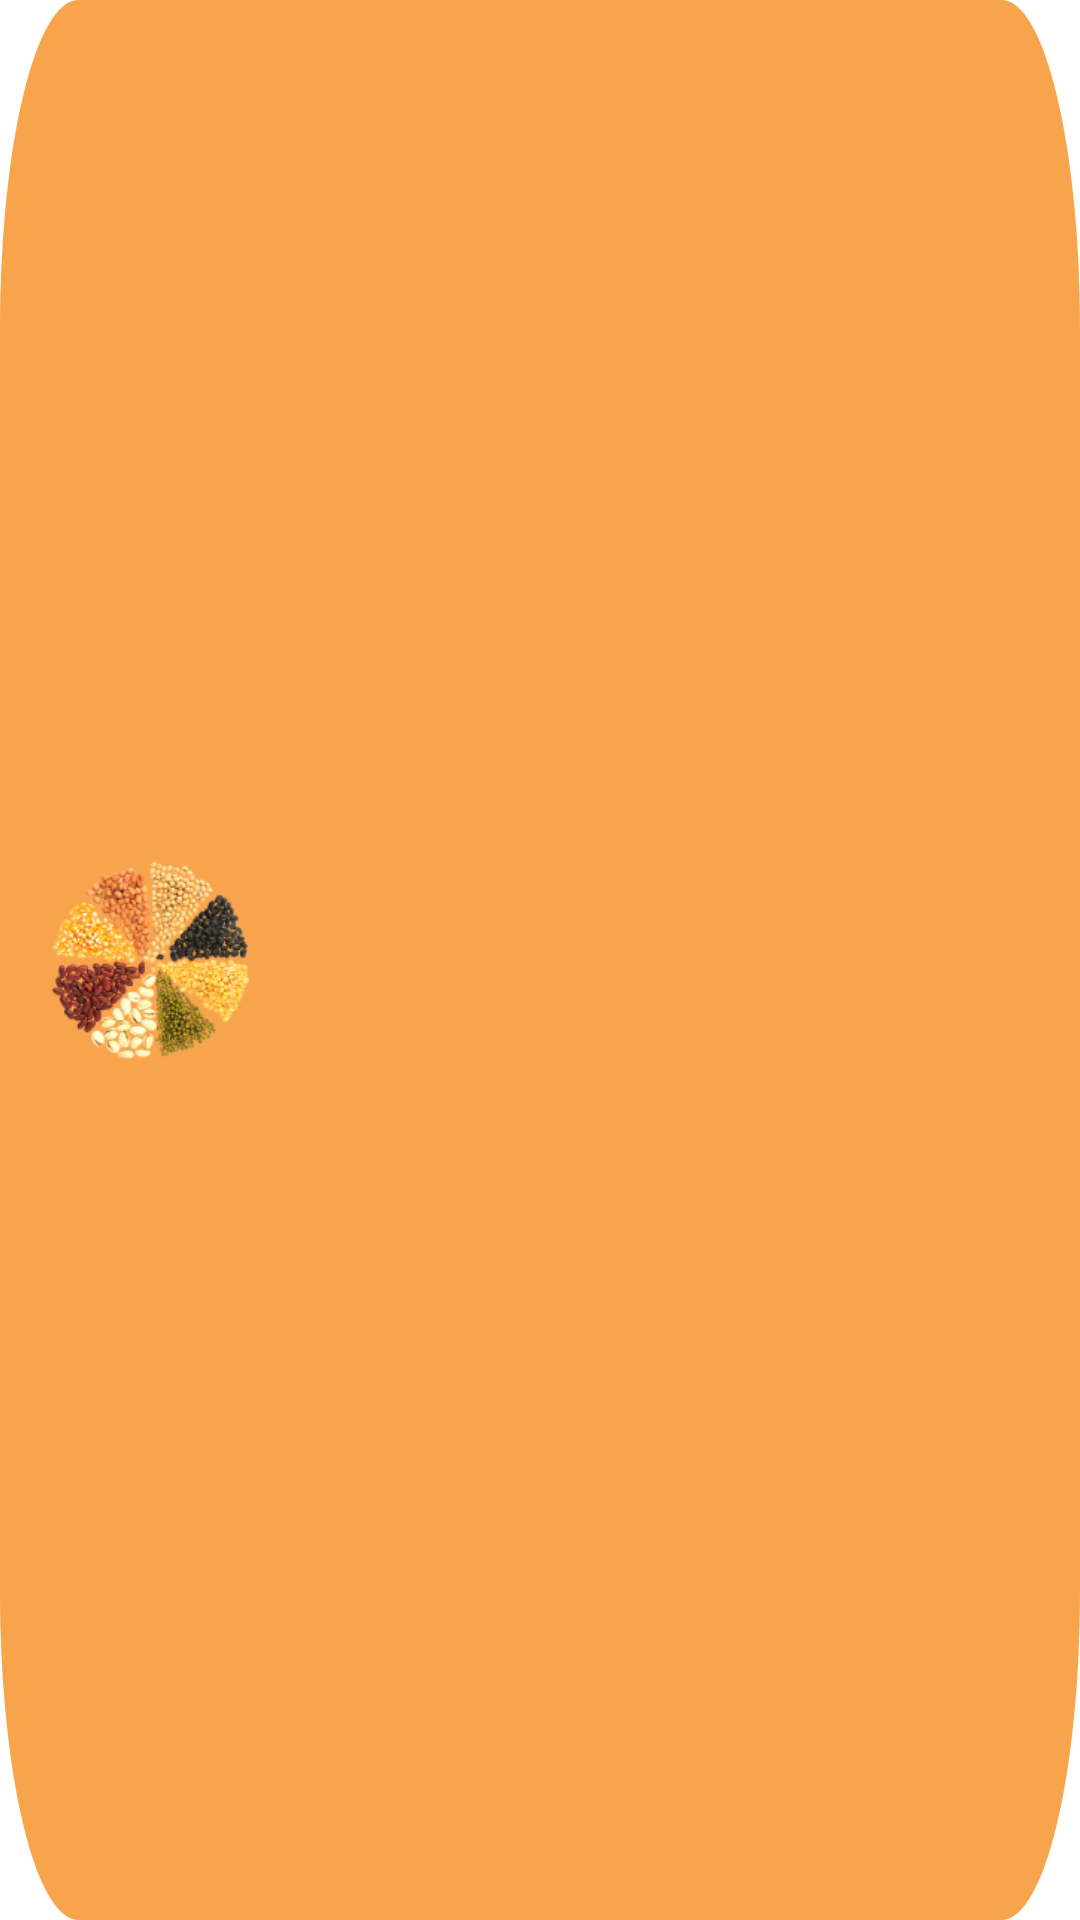

Named icons in this screenshot (1080*1920) and their bounding boxes, (x1, y1, x2, y2):
pulse: (52, 862, 249, 1059)
